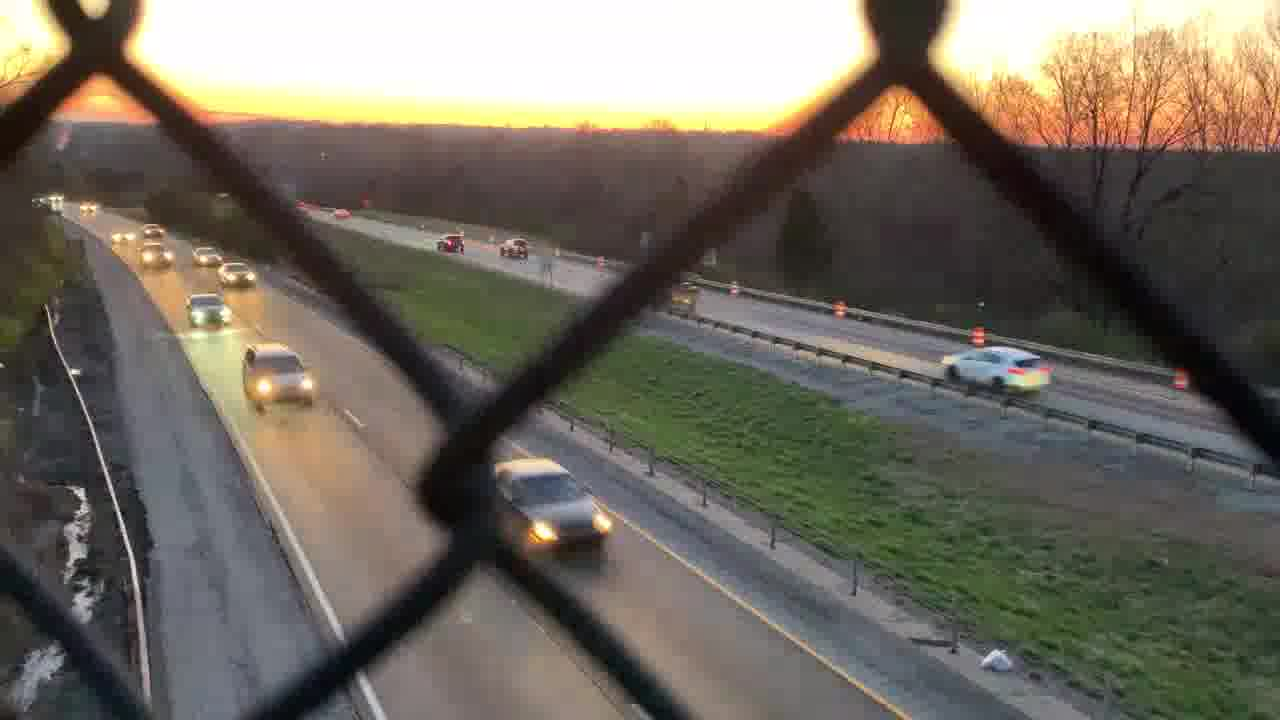largeCar: (939, 345, 1052, 396), (238, 341, 319, 408)
smallCar: (486, 459, 618, 557)
